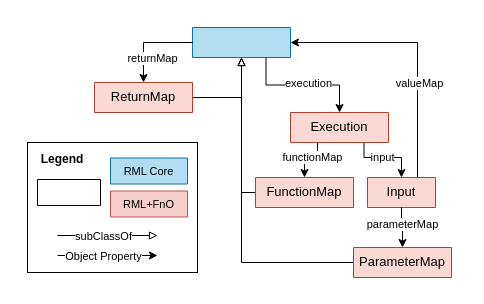
Some shapes in this 484 by 304 pixel diagram are drawn without their labels. The shapes that lost their labels are listed below. From the top down, each one's box as (x1, y1, x2, y2) in pixels, then its label:
(192, 26, 290, 58): TermMap
(36, 178, 100, 206): Class
